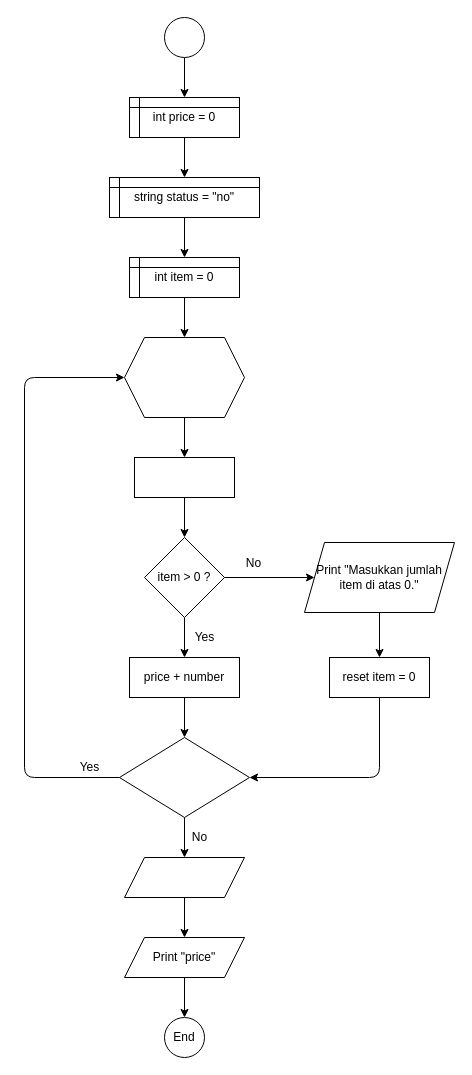
Image size: 472x1075. Some labels were removed from this diagram. Here are the shapes that lost their labels. From the top down, the centre of each, then its label:
(184,37): Start
(184,377): While status = "no"
(184,477): item + number
(184,777): status = "no" ?
(184,877): Print "item"
